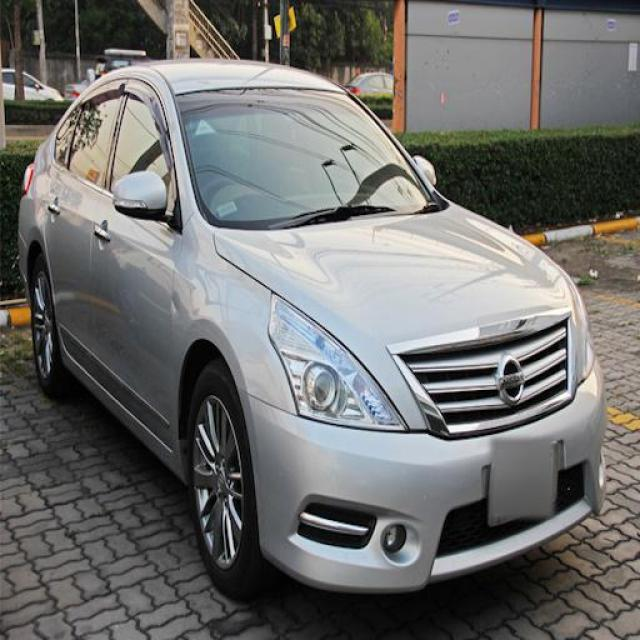back_left_door: (40, 77, 128, 375)
front_bumper: (239, 351, 609, 592)
front_glass: (173, 88, 452, 230)
front_left_door: (88, 77, 184, 452)
front_left_light: (268, 293, 413, 432)
hood: (214, 204, 598, 440)
left_mirror: (411, 154, 438, 191)
right_mirror: (112, 170, 168, 221)
wheel: (188, 358, 279, 601), (28, 254, 59, 390)
